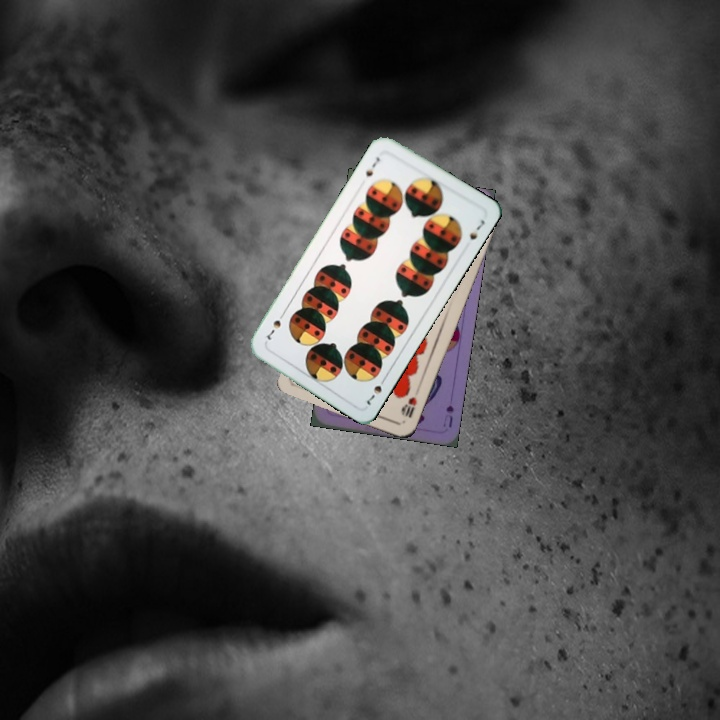H10: (397, 393, 420, 420)
S7: (363, 372, 389, 408), (362, 152, 382, 179)
SU: (439, 401, 456, 430)
